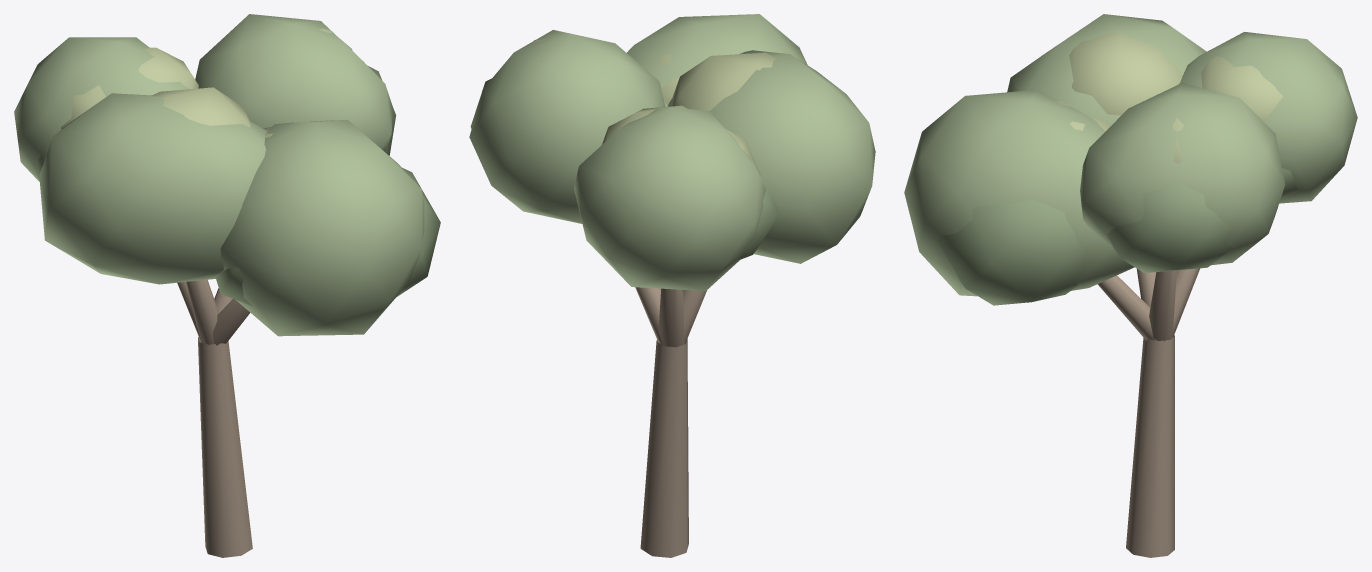
The model's file is tree_ceibo_7.glb.
3 renders of one model, left to right at view 1: azimuth 30°, elevation 25°; view 2: azimuth 150°, elevation 25°; view 3: azimuth 270°, elevation 25°, orthographic. The views are drawn at different scales.
Parts seen in each view (by area): view 1: tree_ceibo_7.glb; view 2: tree_ceibo_7.glb; view 3: tree_ceibo_7.glb.
Boxes of the visible parts, left/top/right/bottom form: tree_ceibo_7.glb: left=14, top=14, right=440, bottom=557; tree_ceibo_7.glb: left=469, top=14, right=875, bottom=557; tree_ceibo_7.glb: left=904, top=14, right=1357, bottom=557.
Bounding box in the file's own units: 4.17 × 5.54 × 4.61.
